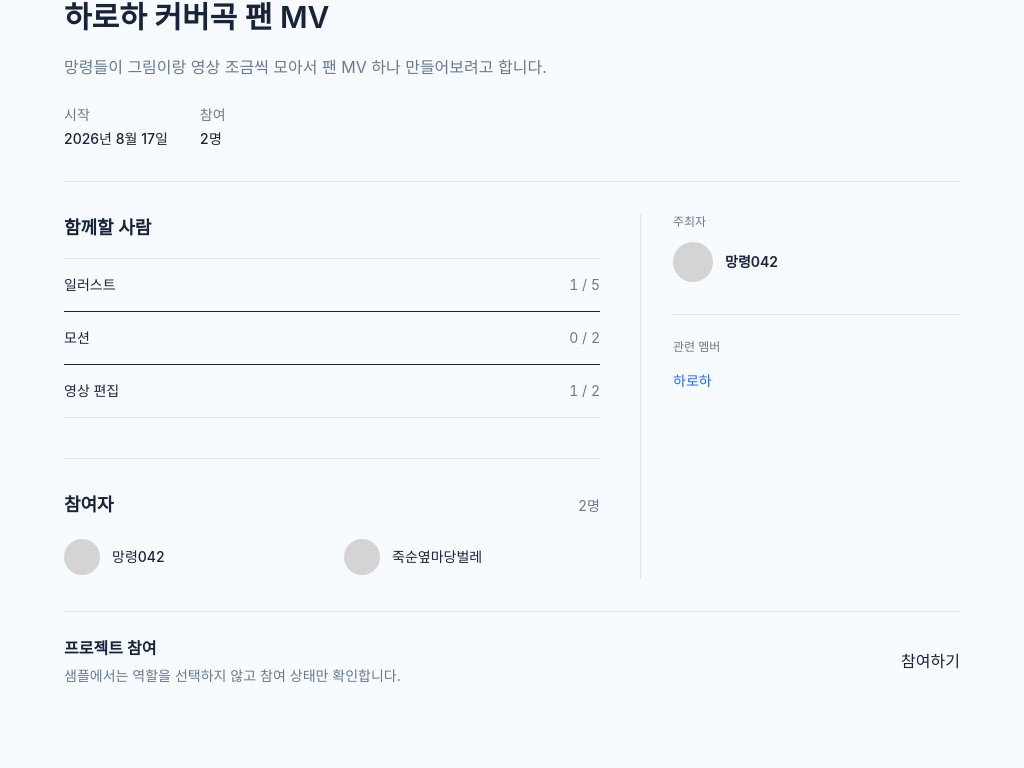
ProjectDetailView › 참여하기를 선택하면 Detail View 안에서 참여 중 상태로 전환합니다.
(page scrolled)
Click the button "참여하기" at (931, 662), box [901,648,960,675]
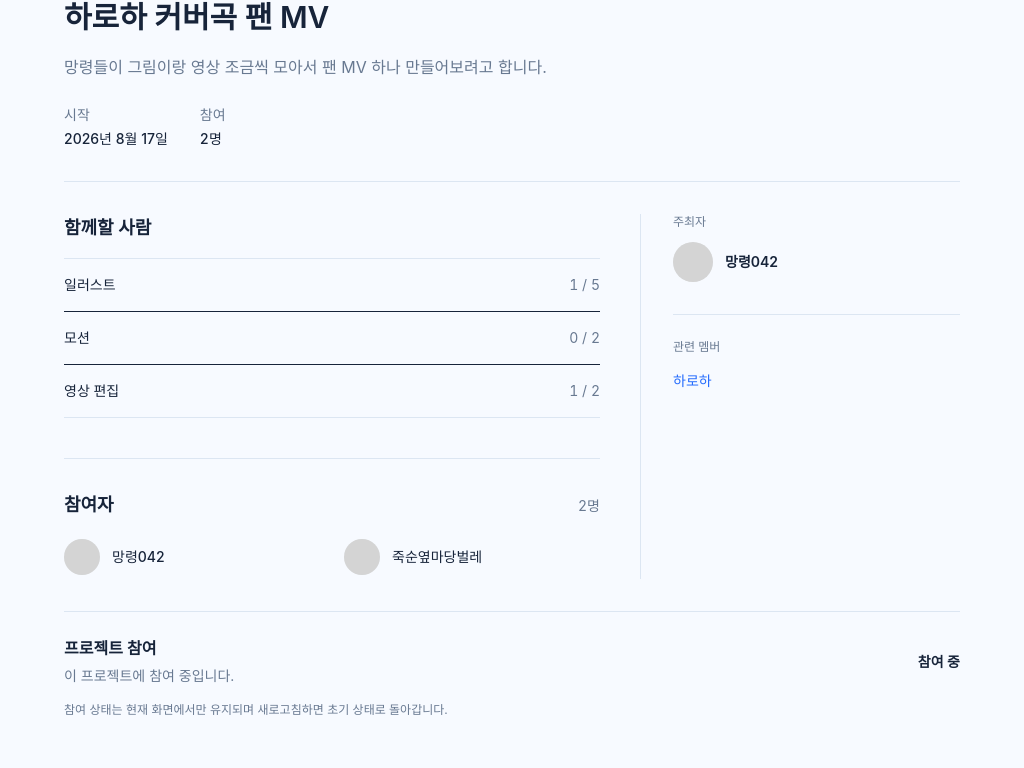
Expected: the text "이 프로젝트에 참여 중입니다." is shown, [64,664,234,688]
Expected: the text "참여 중" is shown, [918,653,960,670]
Expected: the button "참여하기" is gone
